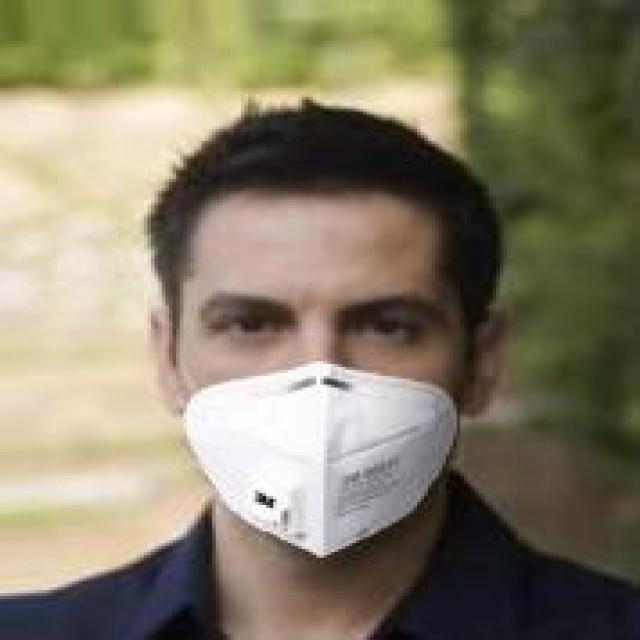mask: (64, 97, 536, 561)
